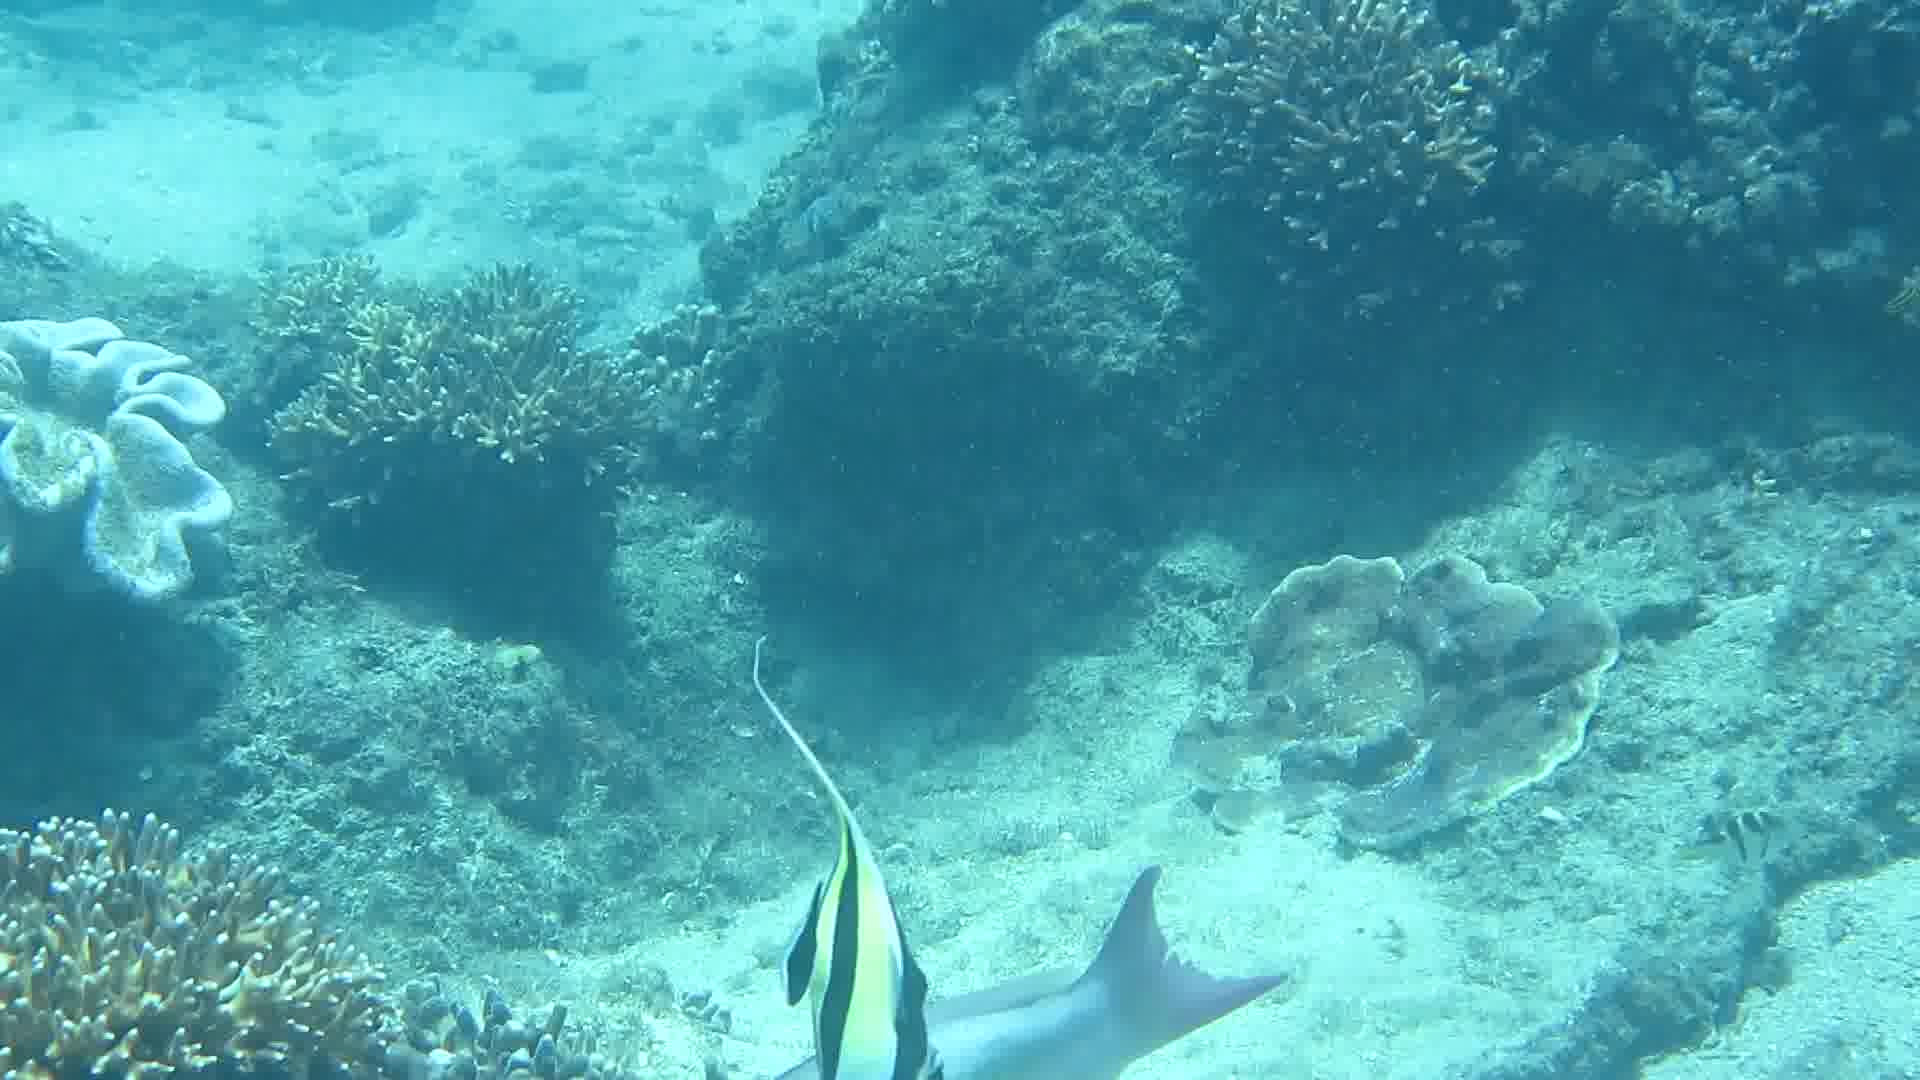Zanclus cornutus: (752, 810, 945, 1080)
